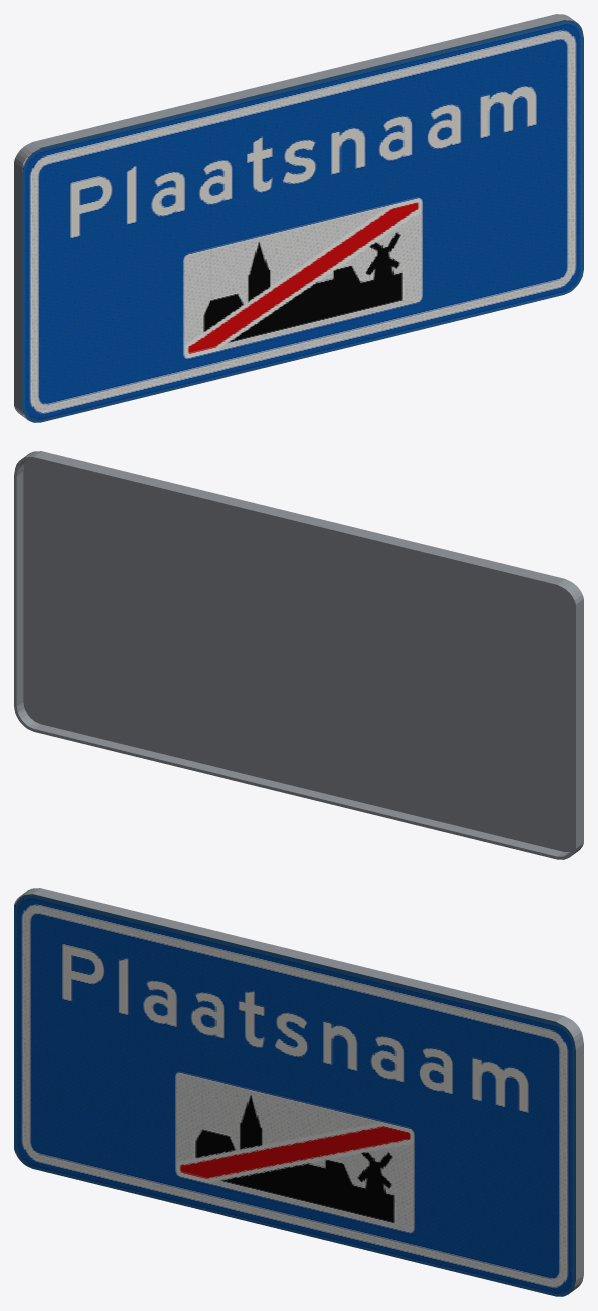
3 renders of one model, top to bottom at view 1: azimuth 30°, elevation 25°; view 2: azimuth 150°, elevation 25°; view 3: azimuth 330°, elevation 25°, orthographic.
Visible parts, largest first — view 1: cat_0194365fe0e03fa5; view 2: cat_0194365fe0e03fa5; view 3: cat_0194365fe0e03fa5.
Part boxes in pixels (<box>): cat_0194365fe0e03fa5: <box>14,14,583,422</box>; cat_0194365fe0e03fa5: <box>14,451,583,859</box>; cat_0194365fe0e03fa5: <box>14,888,583,1296</box>.
Bounding box in the file's own units: 0.6 × 0.015 × 0.2803.
2 materials, 1 textured.
